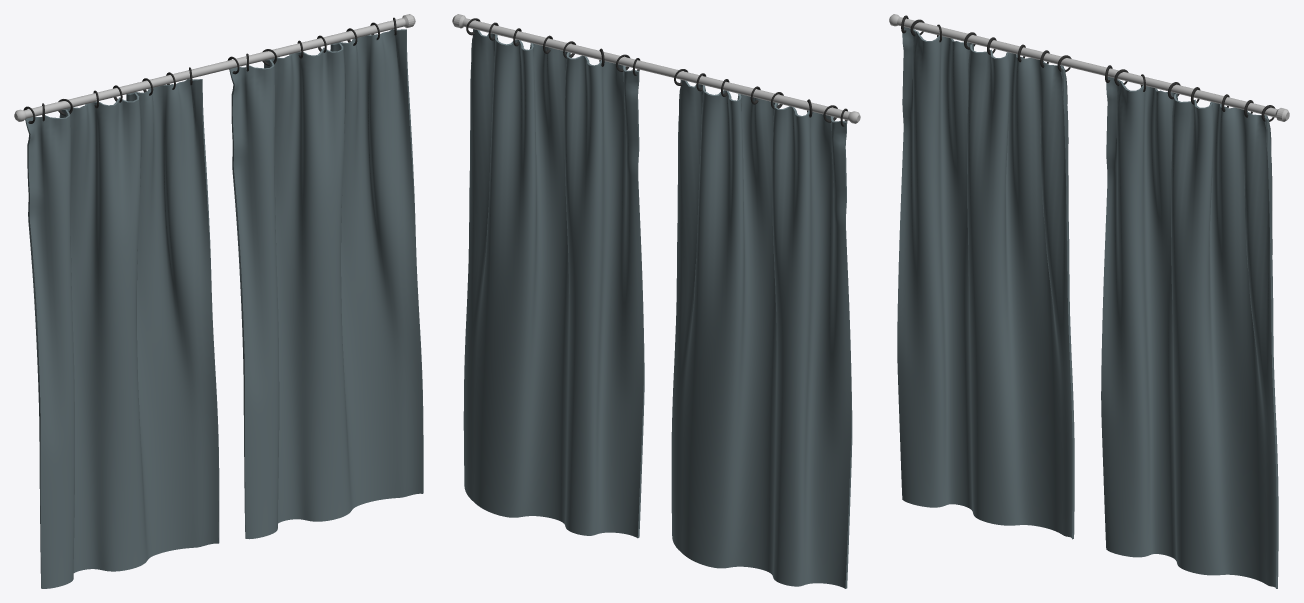
Rendered from CurtainsClosed01.fbx.
3 renders of one model, left to right at view 1: azimuth 30°, elevation 25°; view 2: azimuth 150°, elevation 25°; view 3: azimuth 330°, elevation 25°, orthographic.
Parts seen in each view (by area): view 1: pPlane1 (×2), pCylinder1; view 2: pPlane1 (×2), pCylinder1; view 3: pPlane1 (×2), pCylinder1.
Boxes of the visible parts, box(x1,y1,x2,y2) form: pPlane1 (×2): box(25, 29, 423, 588); pCylinder1: box(14, 14, 415, 121); pPlane1 (×2): box(463, 29, 852, 588); pCylinder1: box(452, 14, 860, 123); pPlane1 (×2): box(897, 27, 1278, 588); pCylinder1: box(889, 14, 1289, 121).
Size of the model in its own units: 106 by 122 by 8.12.
